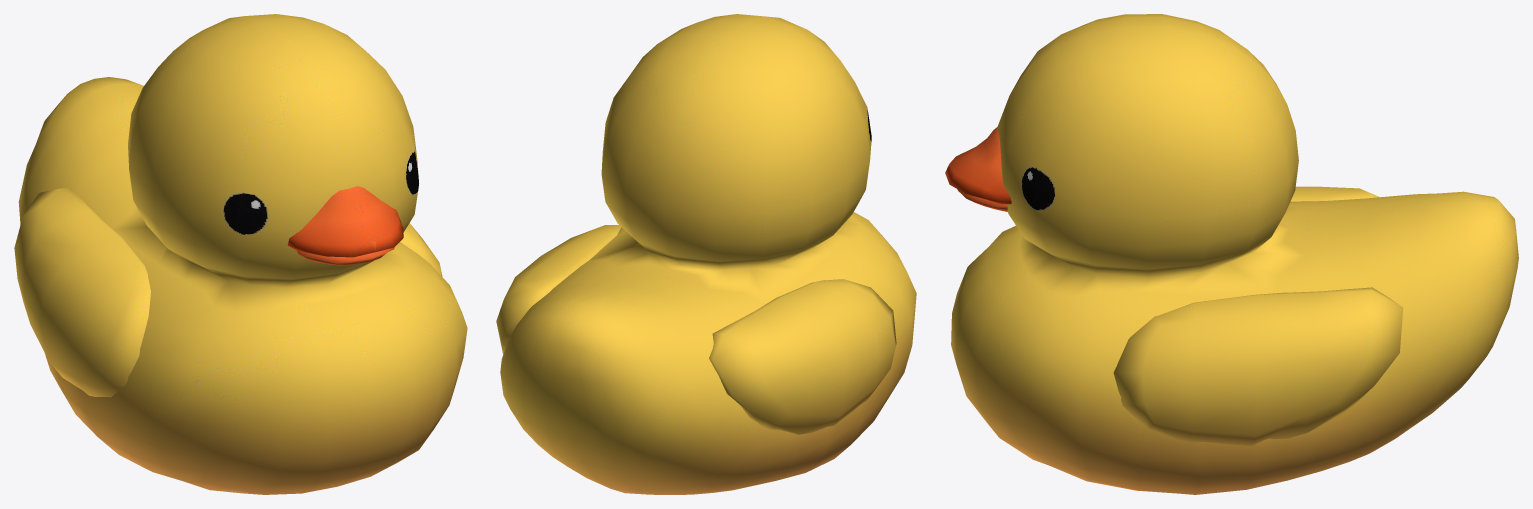
The model's file is yellow_rubber_duck.glb.
3 renders of one model, left to right at view 1: azimuth 30°, elevation 25°; view 2: azimuth 150°, elevation 25°; view 3: azimuth 270°, elevation 25°, orthographic. The views are drawn at different scales.
Parts seen in each view (by area): view 1: Cube.015_0, Cube.012_1, Cube.013_2; view 2: Cube.015_0; view 3: Cube.015_0, Cube.012_1.
Boxes of the visible parts, bbox=[...] form: Cube.015_0: bbox=[14, 14, 467, 494]; Cube.012_1: bbox=[287, 186, 403, 257]; Cube.013_2: bbox=[296, 247, 394, 265]; Cube.015_0: bbox=[496, 14, 916, 494]; Cube.015_0: bbox=[951, 14, 1518, 494]; Cube.012_1: bbox=[945, 127, 1011, 204].
Size of the model in its own units: 1.06 by 1.24 by 1.52.
1 material, 1 textured.
